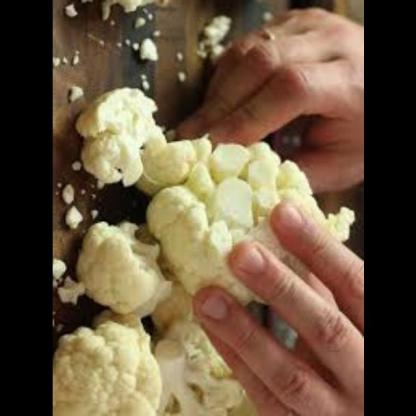cayliflower: (53, 78, 340, 416)
